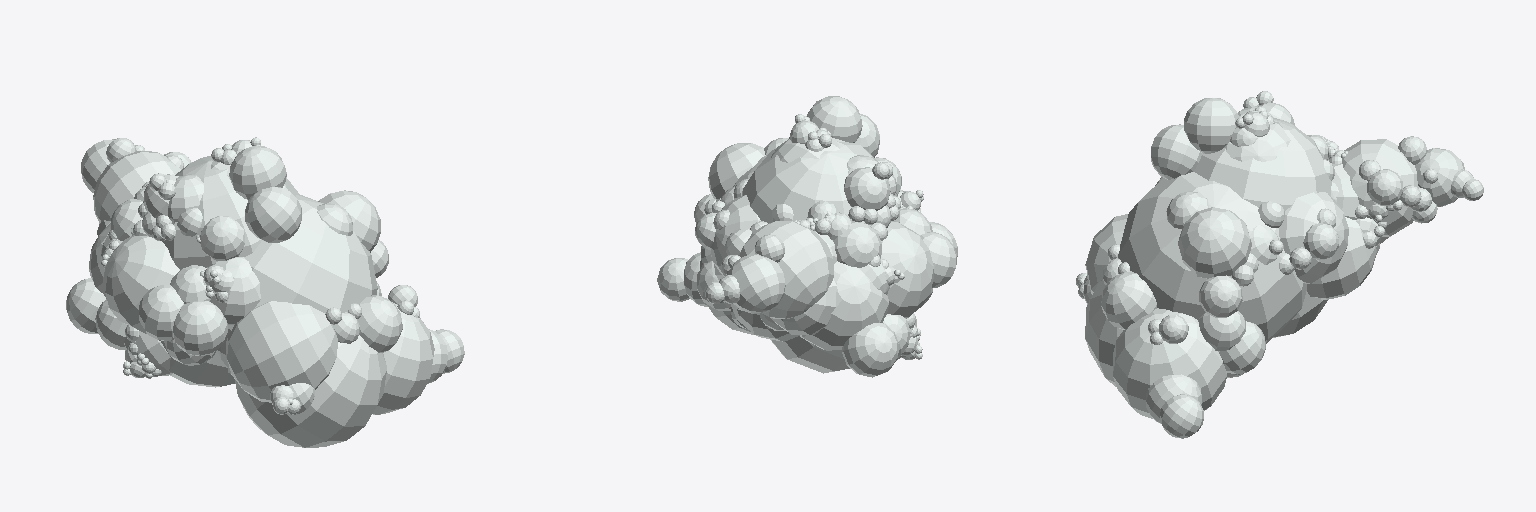
The picture shows the model from 3 angles: view 1: azimuth 30°, elevation 25°; view 2: azimuth 150°, elevation 25°; view 3: azimuth 270°, elevation 25°; orthographic projection.
Parts seen in each view (by area): view 1: group[number redacted]; view 2: group[number redacted]; view 3: group[number redacted].
Part boxes in pixels (x1,y1,x2,y2): group[number redacted]: (66, 137, 464, 447); group[number redacted]: (657, 96, 957, 377); group[number redacted]: (1076, 91, 1483, 438).
Bounding box in the file's own units: 0.1674 × 0.1432 × 0.1885.